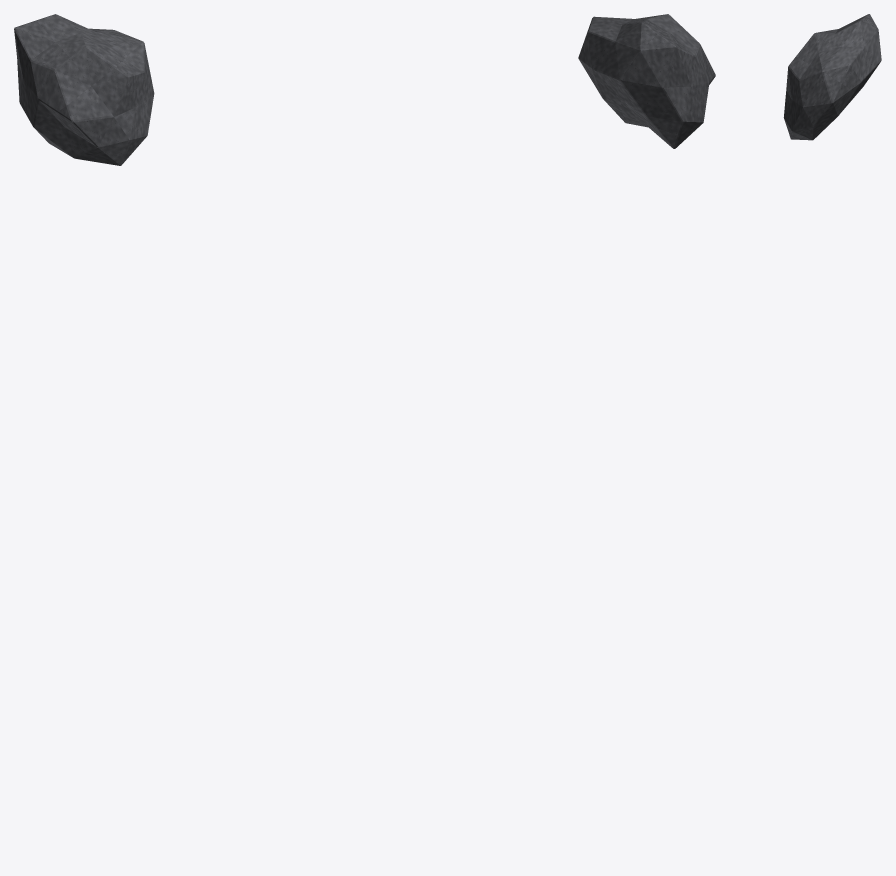
File: meteor-impact.glb
3 views of the same model, side by side, from view 1: azimuth 30°, elevation 25°; view 2: azimuth 150°, elevation 25°; view 3: azimuth 270°, elevation 25° (orthographic). The views are drawn at different scales.
Visible parts, largest first — view 1: Ballistic meteor • editable solid geometry; view 2: Ballistic meteor • editable solid geometry; view 3: Ballistic meteor • editable solid geometry.
Part boxes in pixels (x1,y1,x2,y2): Ballistic meteor • editable solid geometry: (14,14,154,165); Ballistic meteor • editable solid geometry: (578,14,715,148); Ballistic meteor • editable solid geometry: (783,14,881,140).
Bounding box in the file's own units: 3.59 × 9.68 × 1.65.
2 materials, 1 textured.
